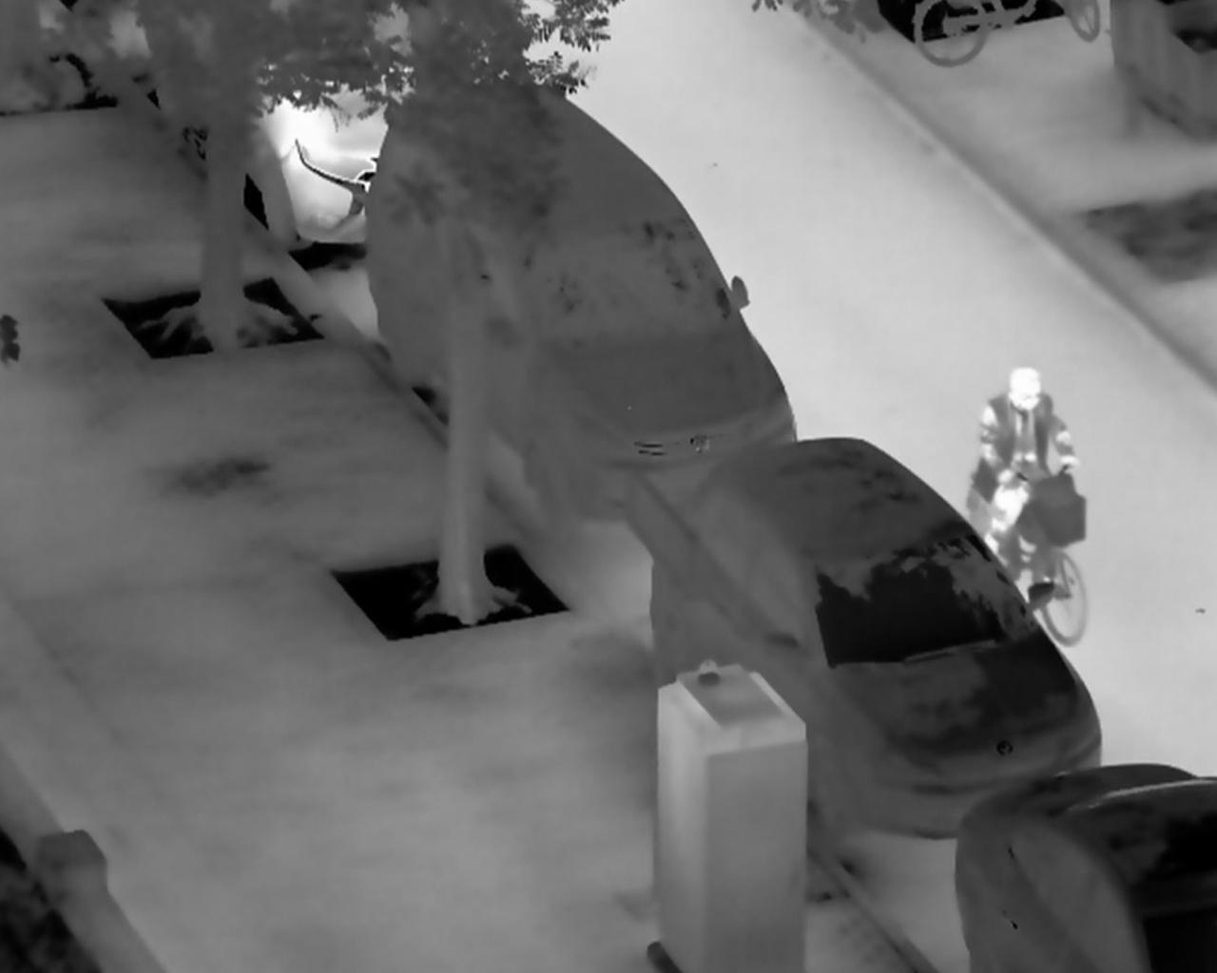person: (977, 366, 1080, 560)
